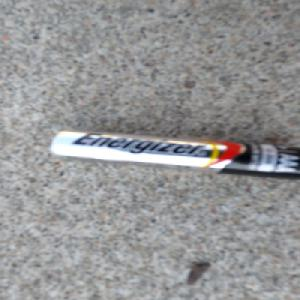Battery: (44, 127, 297, 178)
